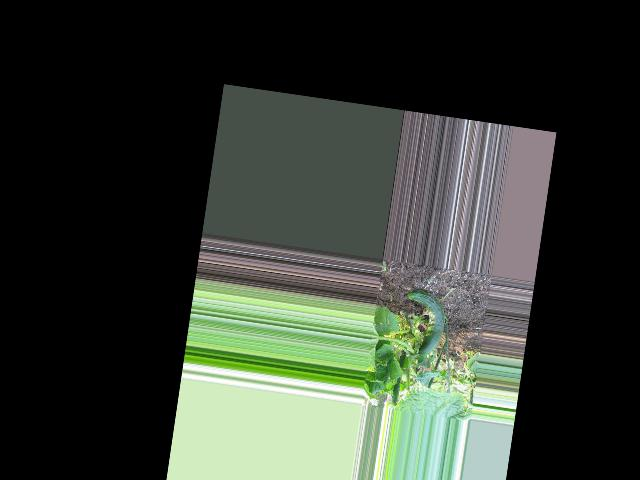cucumber: (398, 288, 449, 358)
